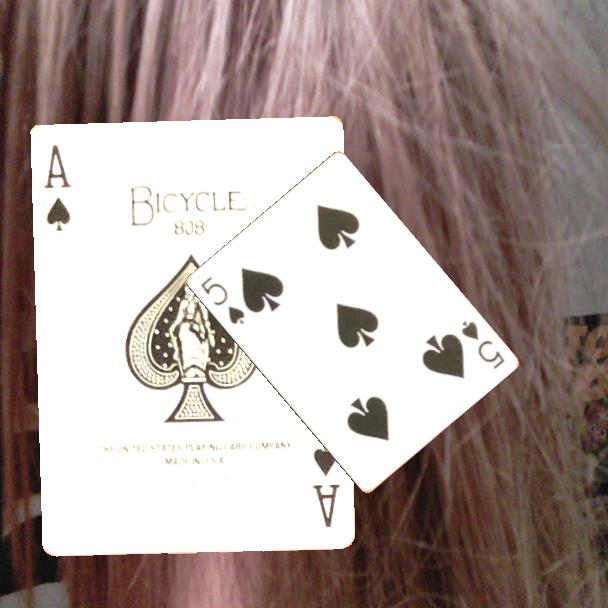s01: (40, 140, 74, 233), (308, 438, 342, 530)
s05: (457, 317, 507, 372), (197, 273, 247, 327)
